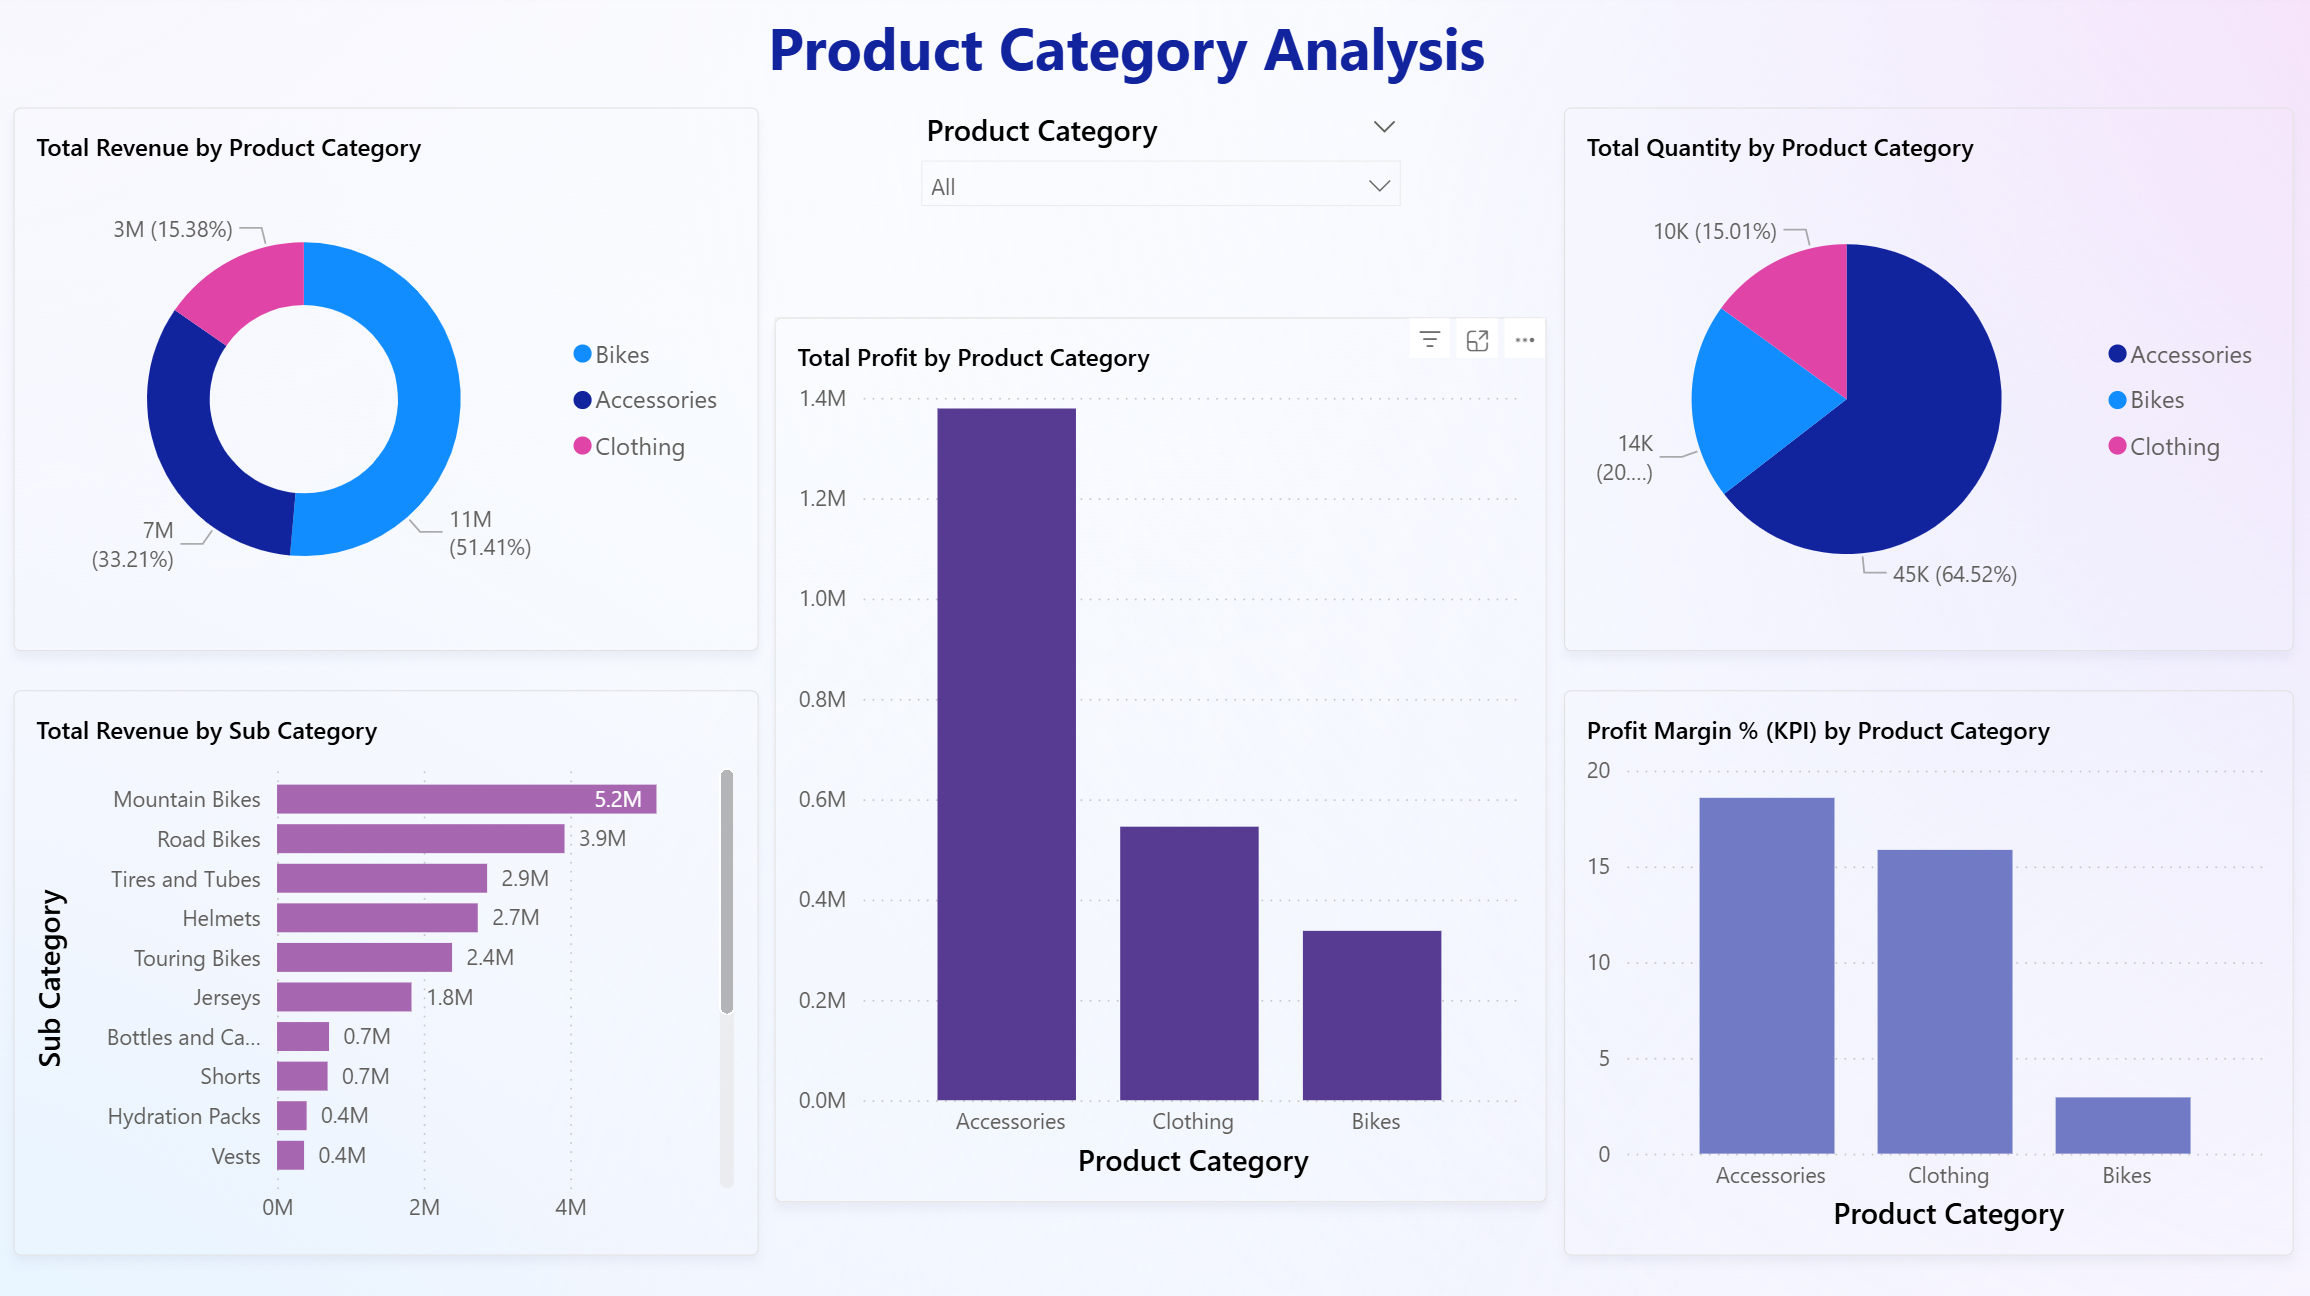

The dashboard page shown, as its layout file describes it:
{"tool":"powerbi","page":{"name":"Category Analysis","canvas":[1280,720],"ordinal":2},"visuals":[{"type":"textbox","box":[421.8,0,418.1,60.1],"z":0},{"type":"donutChart","fields":{"Category":["salesforcourse-4fe2kehu.Product Category"],"Y":["salesforcourse-4fe2kehu.Total Revenue"]},"box":[9.8,60.1,412,300.4],"z":1000},{"type":"clusteredBarChart","fields":{"Category":["salesforcourse-4fe2kehu.Sub Category"],"Y":["salesforcourse-4fe2kehu.Total Revenue"]},"box":[9.8,382.5,412,312.6],"z":2000},{"type":"clusteredColumnChart","fields":{"Category":["salesforcourse-4fe2kehu.Product Category"],"Y":["salesforcourse-4fe2kehu.Total Profit"]},"box":[430.3,176.6,426.7,489.2],"z":3000},{"type":"pieChart","fields":{"Category":["salesforcourse-4fe2kehu.Product Category"],"Y":["salesforcourse-4fe2kehu.Total Quantity"]},"box":[866.8,60.1,403.4,300.4],"z":4000},{"type":"clusteredColumnChart","fields":{"Category":["salesforcourse-4fe2kehu.Product Category"],"Y":["salesforcourse-4fe2kehu.Profit Margin % (KPI)"]},"box":[866.8,382.5,403.4,312.6],"z":5000},{"type":"slicer","fields":{"Values":["salesforcourse-4fe2kehu.Product Category"]},"box":[494.1,49,299.2,65],"z":6000}]}

Visuals, with their boxes in screenshot pixels (x1, y1, x2, y2), scaled from the page's 1280x720 canvas onto the 2310x1296 screenshot:
textbox: box=[761, 0, 1516, 108]
donutChart - salesforcourse-4fe2kehu.Product Category x salesforcourse-4fe2kehu.Total Revenue: box=[18, 108, 761, 649]
clusteredBarChart - salesforcourse-4fe2kehu.Sub Category x salesforcourse-4fe2kehu.Total Revenue: box=[18, 688, 761, 1251]
clusteredColumnChart - salesforcourse-4fe2kehu.Product Category x salesforcourse-4fe2kehu.Total Profit: box=[777, 318, 1547, 1198]
pieChart - salesforcourse-4fe2kehu.Product Category x salesforcourse-4fe2kehu.Total Quantity: box=[1564, 108, 2292, 649]
clusteredColumnChart - salesforcourse-4fe2kehu.Product Category x salesforcourse-4fe2kehu.Profit Margin % (KPI): box=[1564, 688, 2292, 1251]
slicer - salesforcourse-4fe2kehu.Product Category: box=[892, 88, 1432, 205]
